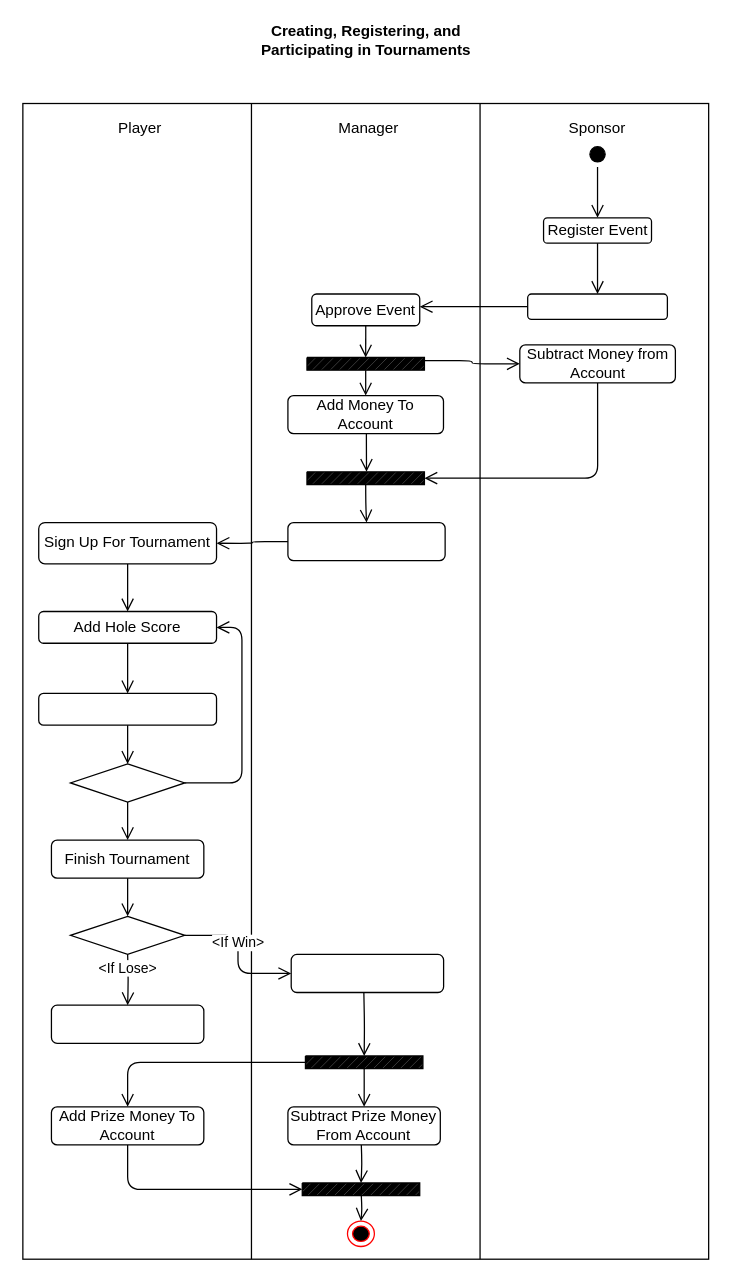
The diagram is 730 pixels wide and 1281 high, and some of its shapes have lost their labels. Each missing label, with the box of its shape:
Add Score to Total: (37, 692, 217, 725)
Declare Winner: (290, 953, 444, 993)
Enter Prize Money: (526, 293, 667, 319)
Leave Tournament: (50, 1004, 204, 1043)
Tournament Open To Sign Up: (287, 521, 445, 561)
